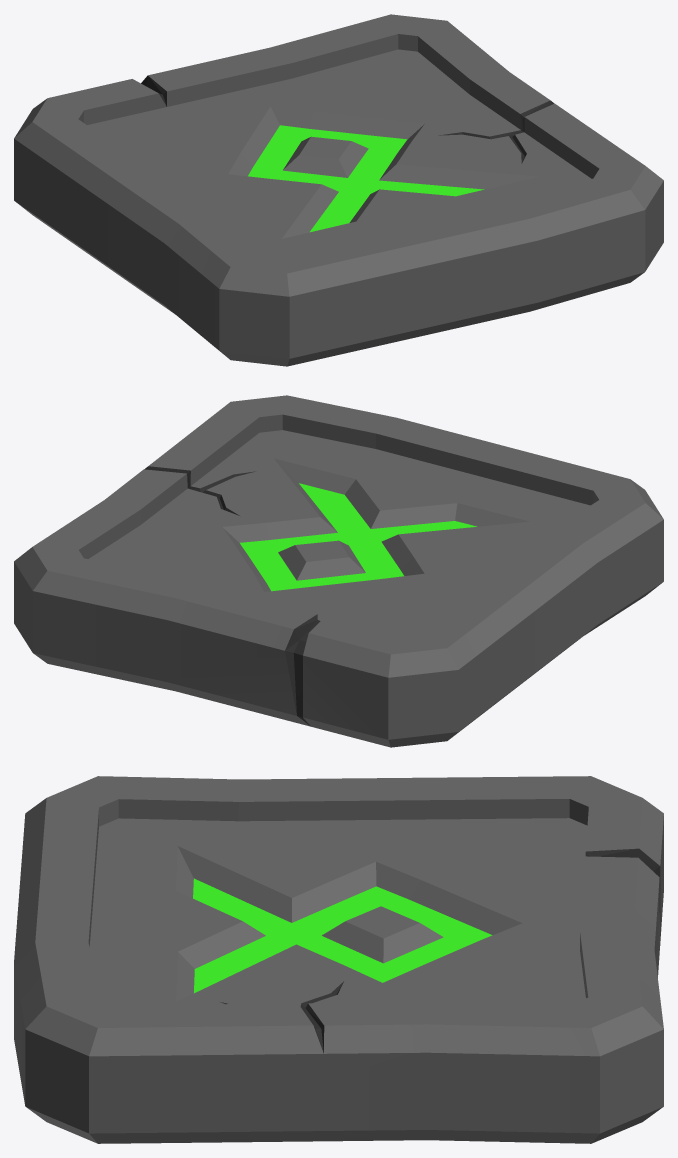
The model's file is Rune.fbx.
The picture shows the model from 3 angles, top to bottom: view 1: azimuth 30°, elevation 25°; view 2: azimuth 150°, elevation 25°; view 3: azimuth 270°, elevation 25°; orthographic projection. The views are drawn at different scales.
Visible parts, largest first — view 1: Box007; view 2: Box007; view 3: Box007.
Boxes of the visible parts, <box> form: Box007: <box>14,14,663,366</box>; Box007: <box>14,395,663,747</box>; Box007: <box>14,776,663,1143</box>.
Size of the model in its own units: 30 by 6 by 30.53.
